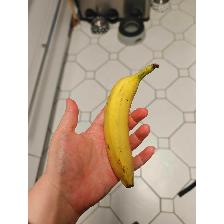Banane: (103, 61, 163, 189)
